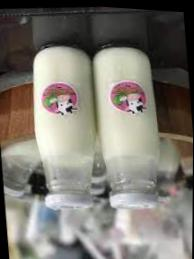glass: (33, 46, 107, 208), (93, 47, 158, 208)
